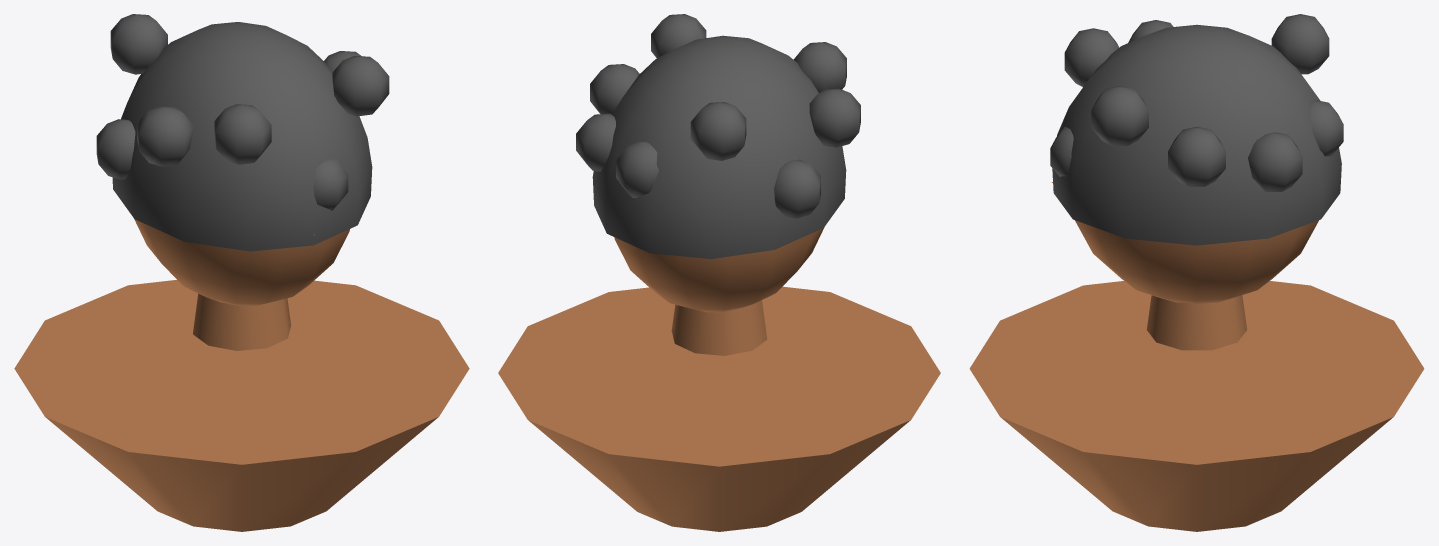
File: raw_003.glb
The picture shows the model from 3 angles, left to right: view 1: azimuth 30°, elevation 25°; view 2: azimuth 150°, elevation 25°; view 3: azimuth 270°, elevation 25°; orthographic projection. The views are drawn at different scales.
Bounding box in the file's own units: 1.9 × 2.1 × 1.9.
